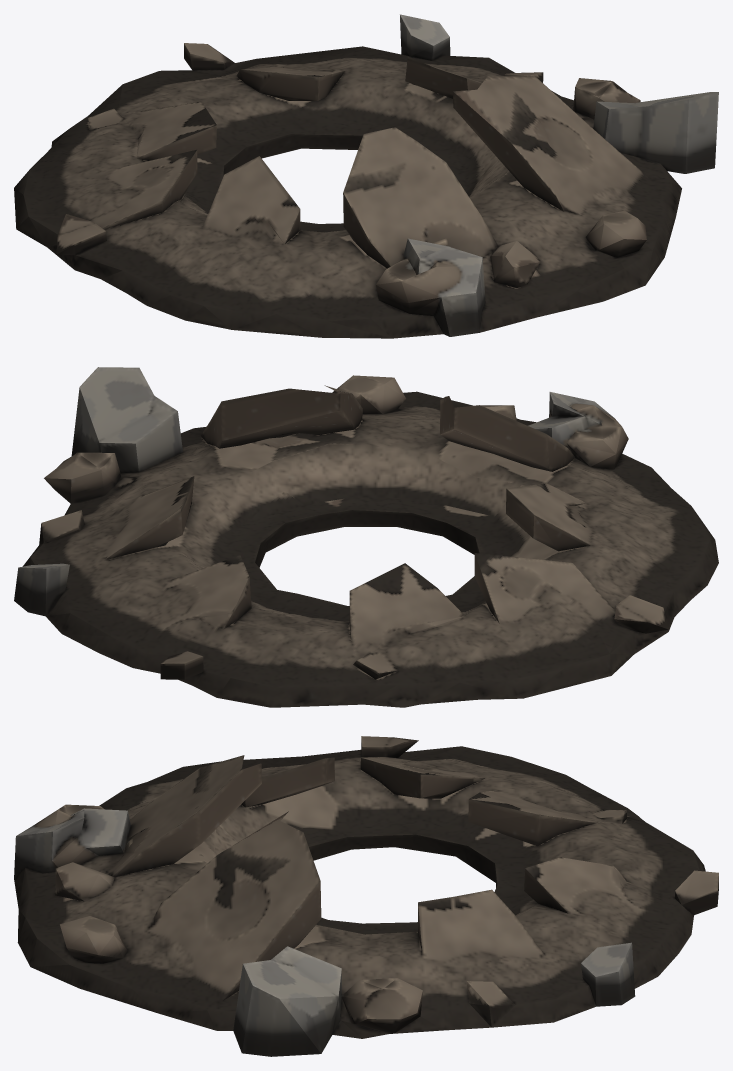
The model's file is earth_rubble.glb.
The picture shows the model from 3 angles, top to bottom: view 1: azimuth 30°, elevation 25°; view 2: azimuth 150°, elevation 25°; view 3: azimuth 270°, elevation 25°; orthographic projection. The views are drawn at different scales.
Parts seen in each view (by area): view 1: earth_rubble_LOD0; view 2: earth_rubble_LOD0; view 3: earth_rubble_LOD0.
Part boxes in pixels (x1=…): earth_rubble_LOD0: x1=14, y1=14, x2=718, y2=338; earth_rubble_LOD0: x1=14, y1=367, x2=718, y2=707; earth_rubble_LOD0: x1=14, y1=736, x2=718, y2=1056.
Size of what is drawn, in the model's own units: 7.81 by 1.47 by 7.61.
Materials: 1 (1 with a texture image).
